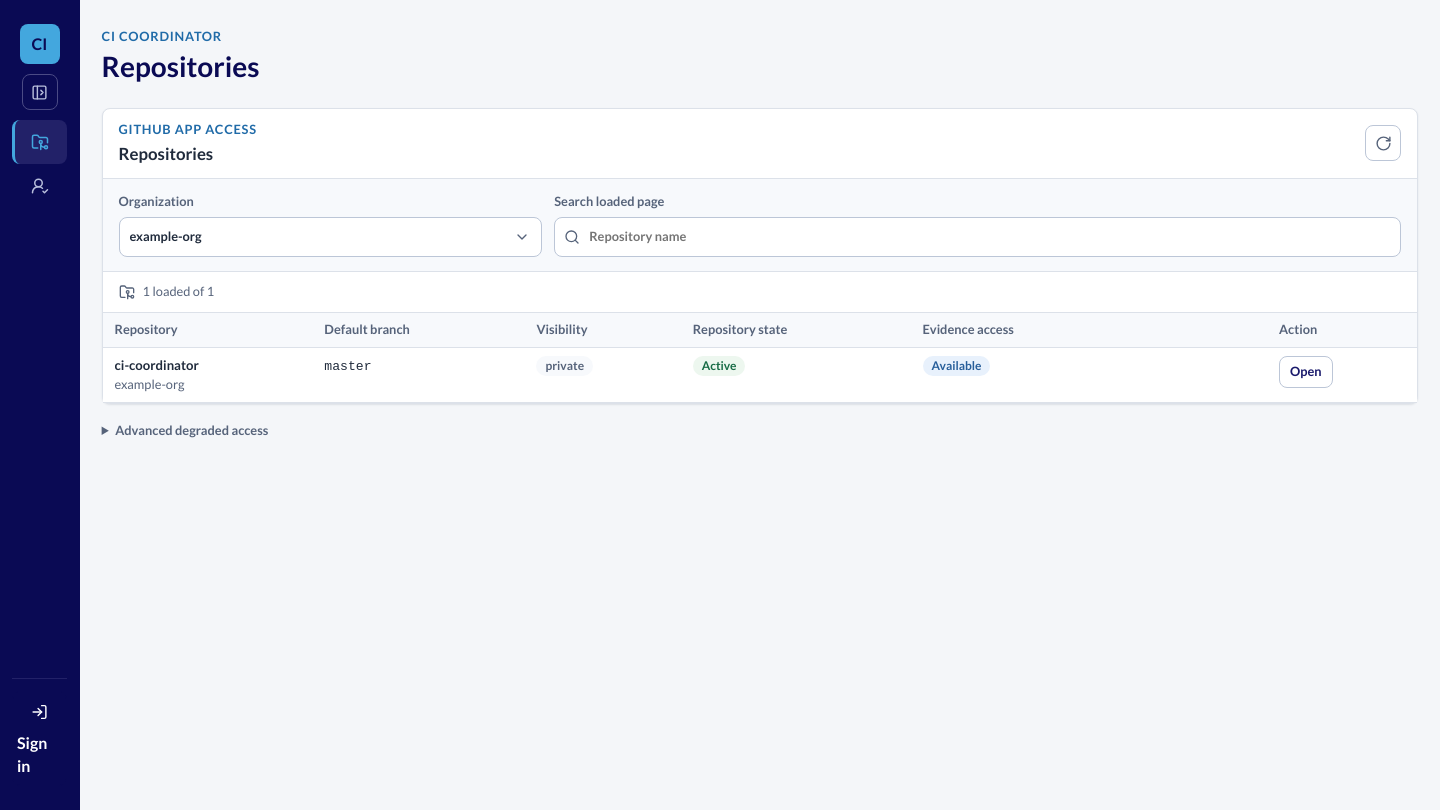
Scenario: first visit to CI economics reaches its scoped reader and content
This screenshot has width=1440, height=810.
Click the button "Open" at (1306, 372), box [1279, 356, 1333, 388]
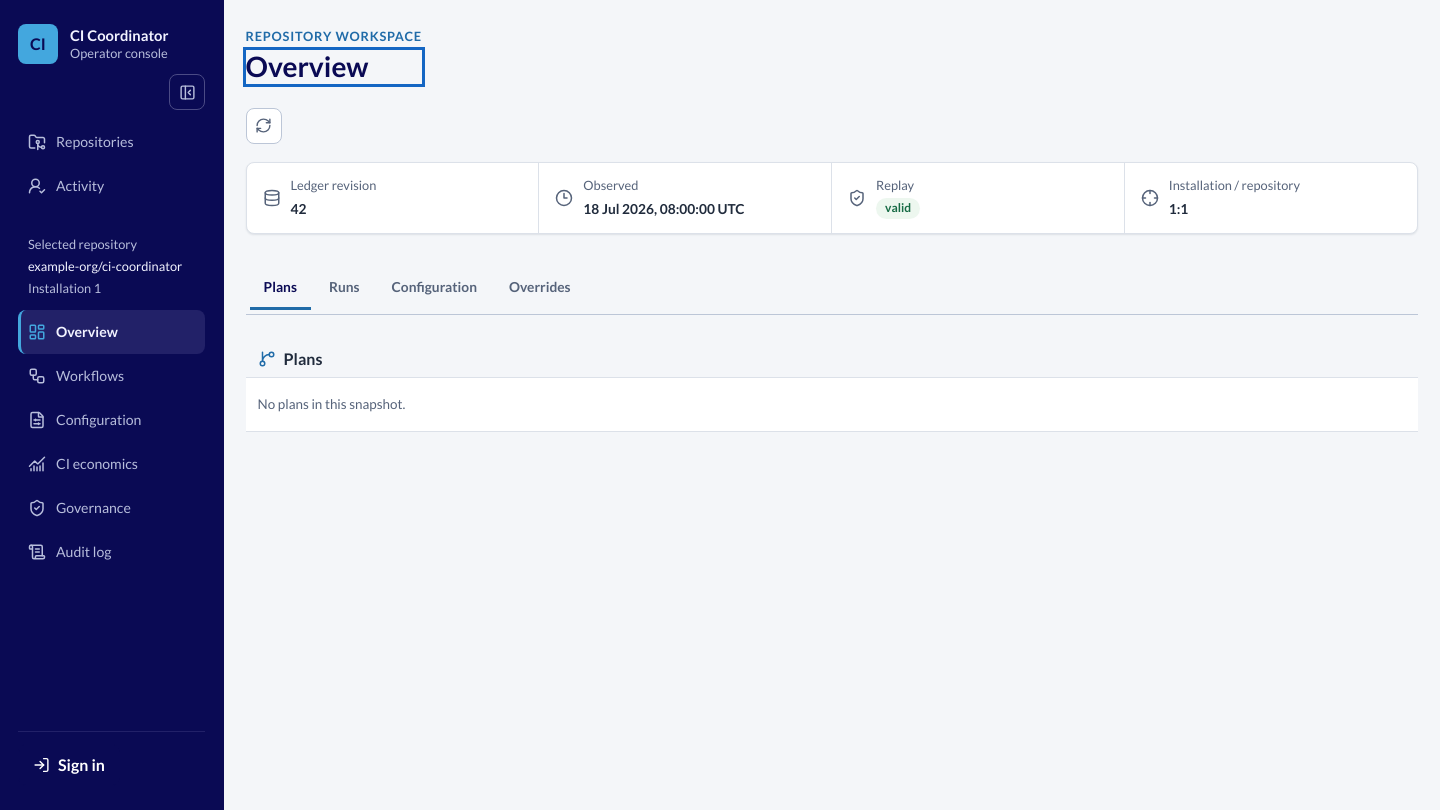
Expected: the text "Ledger revision" is shown, [291, 177, 376, 193]
Click the link "CI economics" at (83, 464), box [28, 452, 138, 476]
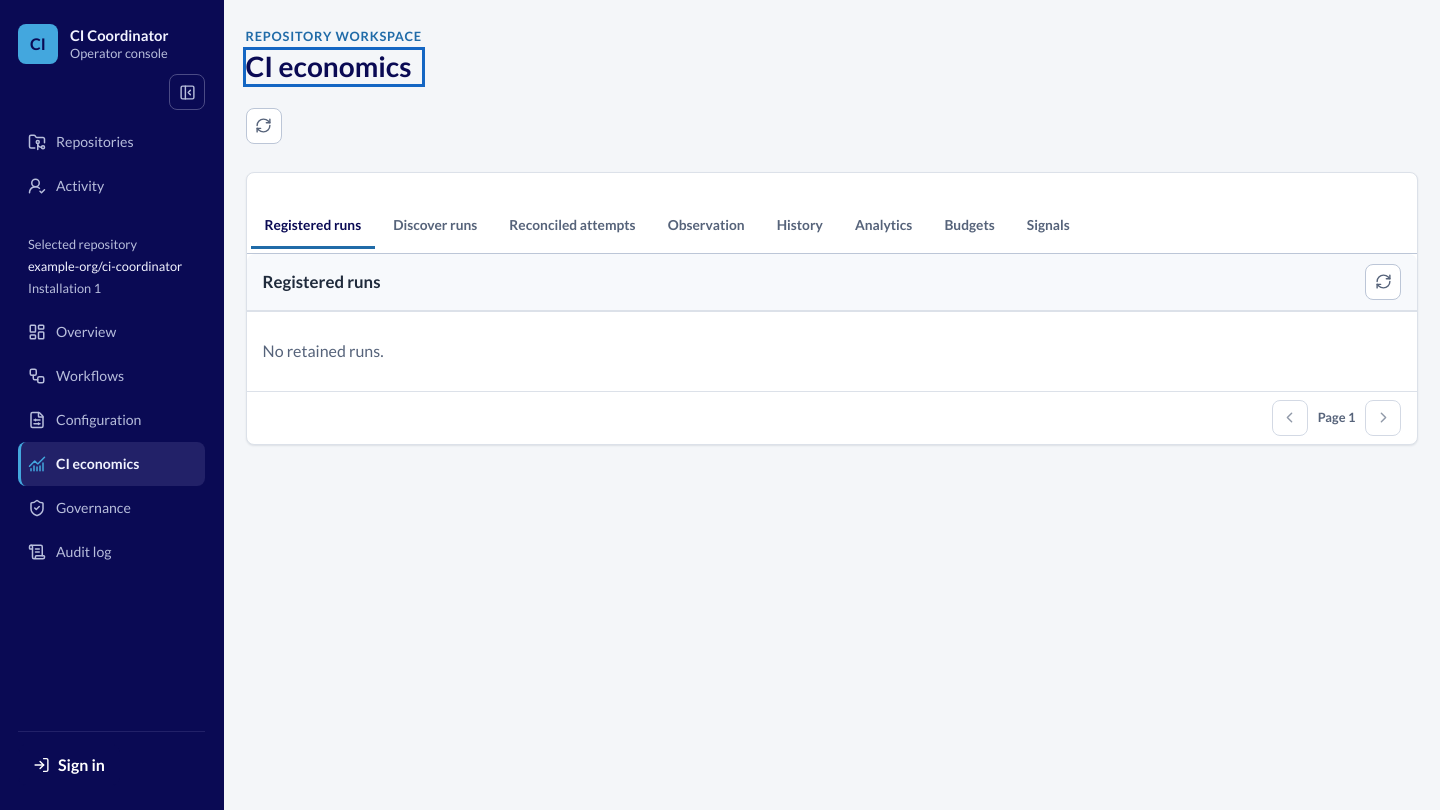
Expected: the text "No retained runs." is shown, [247, 310, 1417, 390]
